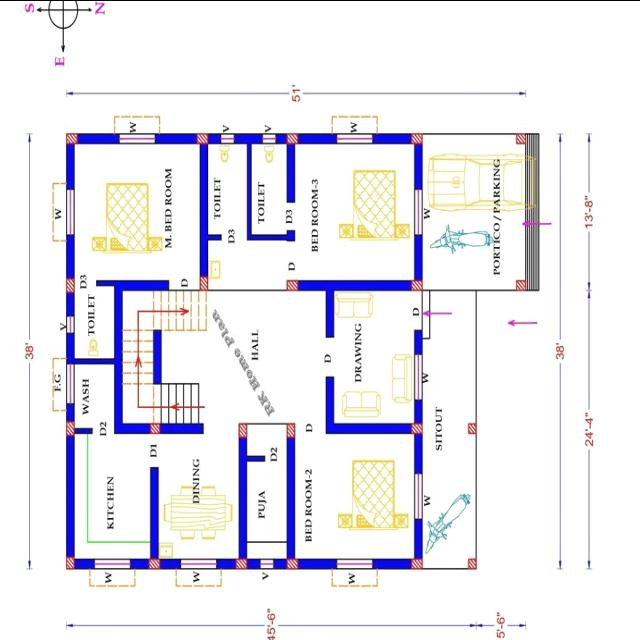column: (282, 122, 304, 150), (191, 124, 214, 150), (61, 270, 81, 298), (194, 269, 214, 297), (282, 272, 302, 300), (148, 412, 166, 443), (235, 414, 253, 444), (144, 552, 164, 578), (408, 124, 427, 150), (61, 417, 82, 439), (232, 552, 252, 574), (406, 275, 426, 296), (62, 128, 82, 148), (62, 552, 80, 574), (512, 130, 530, 150), (408, 418, 426, 438), (408, 552, 426, 572), (512, 274, 528, 296), (284, 418, 298, 441), (464, 419, 480, 436), (284, 555, 300, 572), (464, 554, 478, 572)
